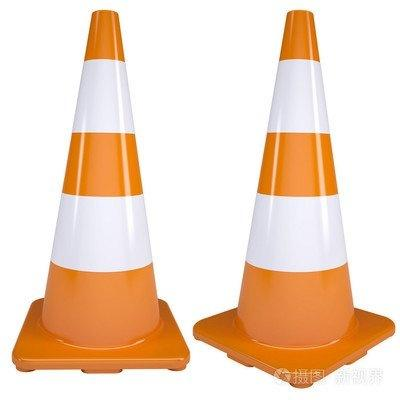cone_barrel: (25, 14, 178, 359), (218, 15, 371, 355)
